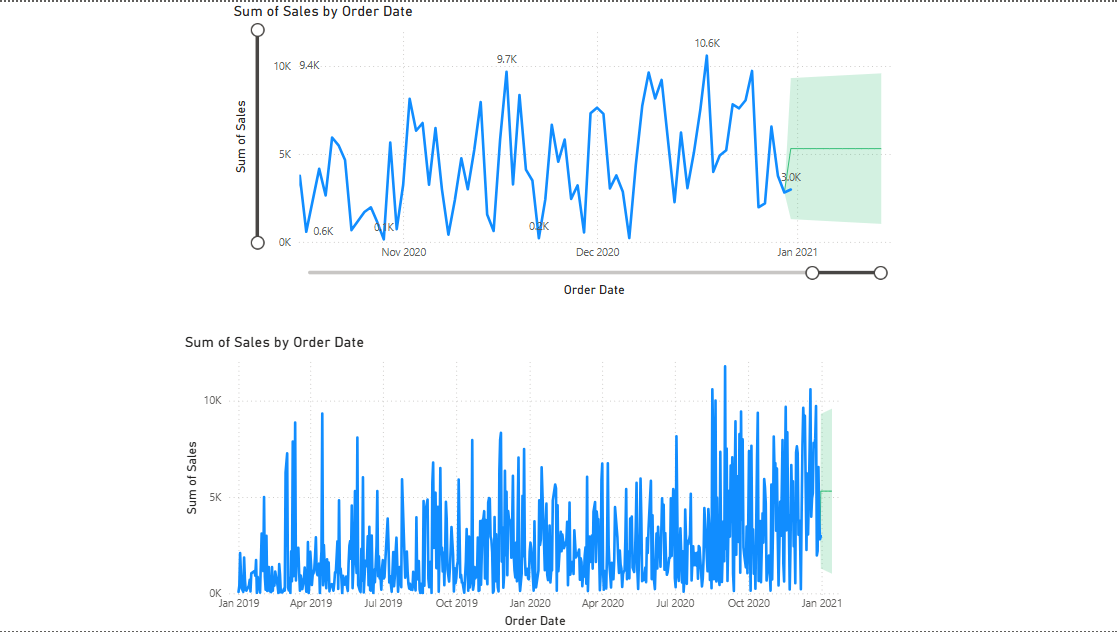

This screenshot's page, from the dashboard's own definition file:
{"tool":"powerbi","page":{"name":"Page 2","canvas":[1280,720],"ordinal":1},"visuals":[{"type":"lineChart","fields":{"Category":["SuperStore_Sales_Dataset.Order Date"],"Y":["Sum(SuperStore_Sales_Dataset.Sales)"]},"box":[263.5,0,774,341.3],"z":0},{"type":"lineChart","fields":{"Category":["SuperStore_Sales_Dataset.Order Date"],"Y":["Sum(SuperStore_Sales_Dataset.Sales)"]},"box":[206.7,378.8,774,341.3],"z":1000}]}

Visuals, with their boxes in screenshot pixels (x1, y1, x2, y2), scaled from the page's 1280x720 canvas onto the 1117x632 screenshot:
lineChart - SuperStore_Sales_Dataset.Order Date x Sum(SuperStore_Sales_Dataset.Sales): pyautogui.locateOnScreen(230, 0, 905, 300)
lineChart - SuperStore_Sales_Dataset.Order Date x Sum(SuperStore_Sales_Dataset.Sales): pyautogui.locateOnScreen(180, 333, 856, 631)
